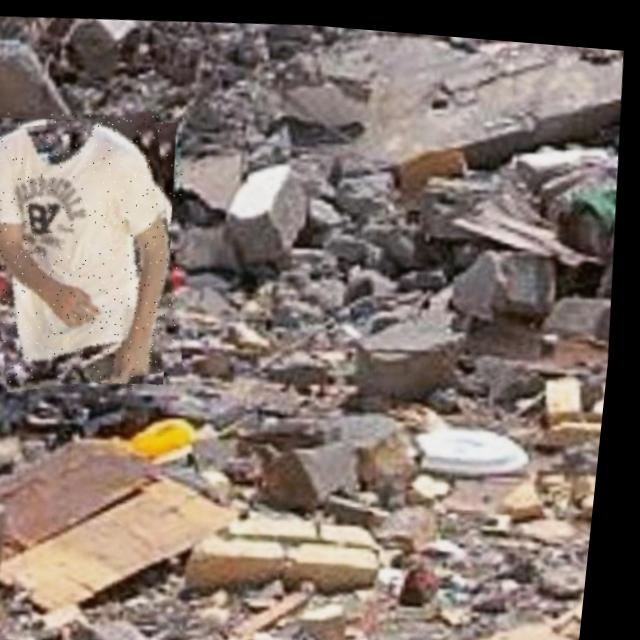Person in Rubble: (0, 101, 202, 397)
